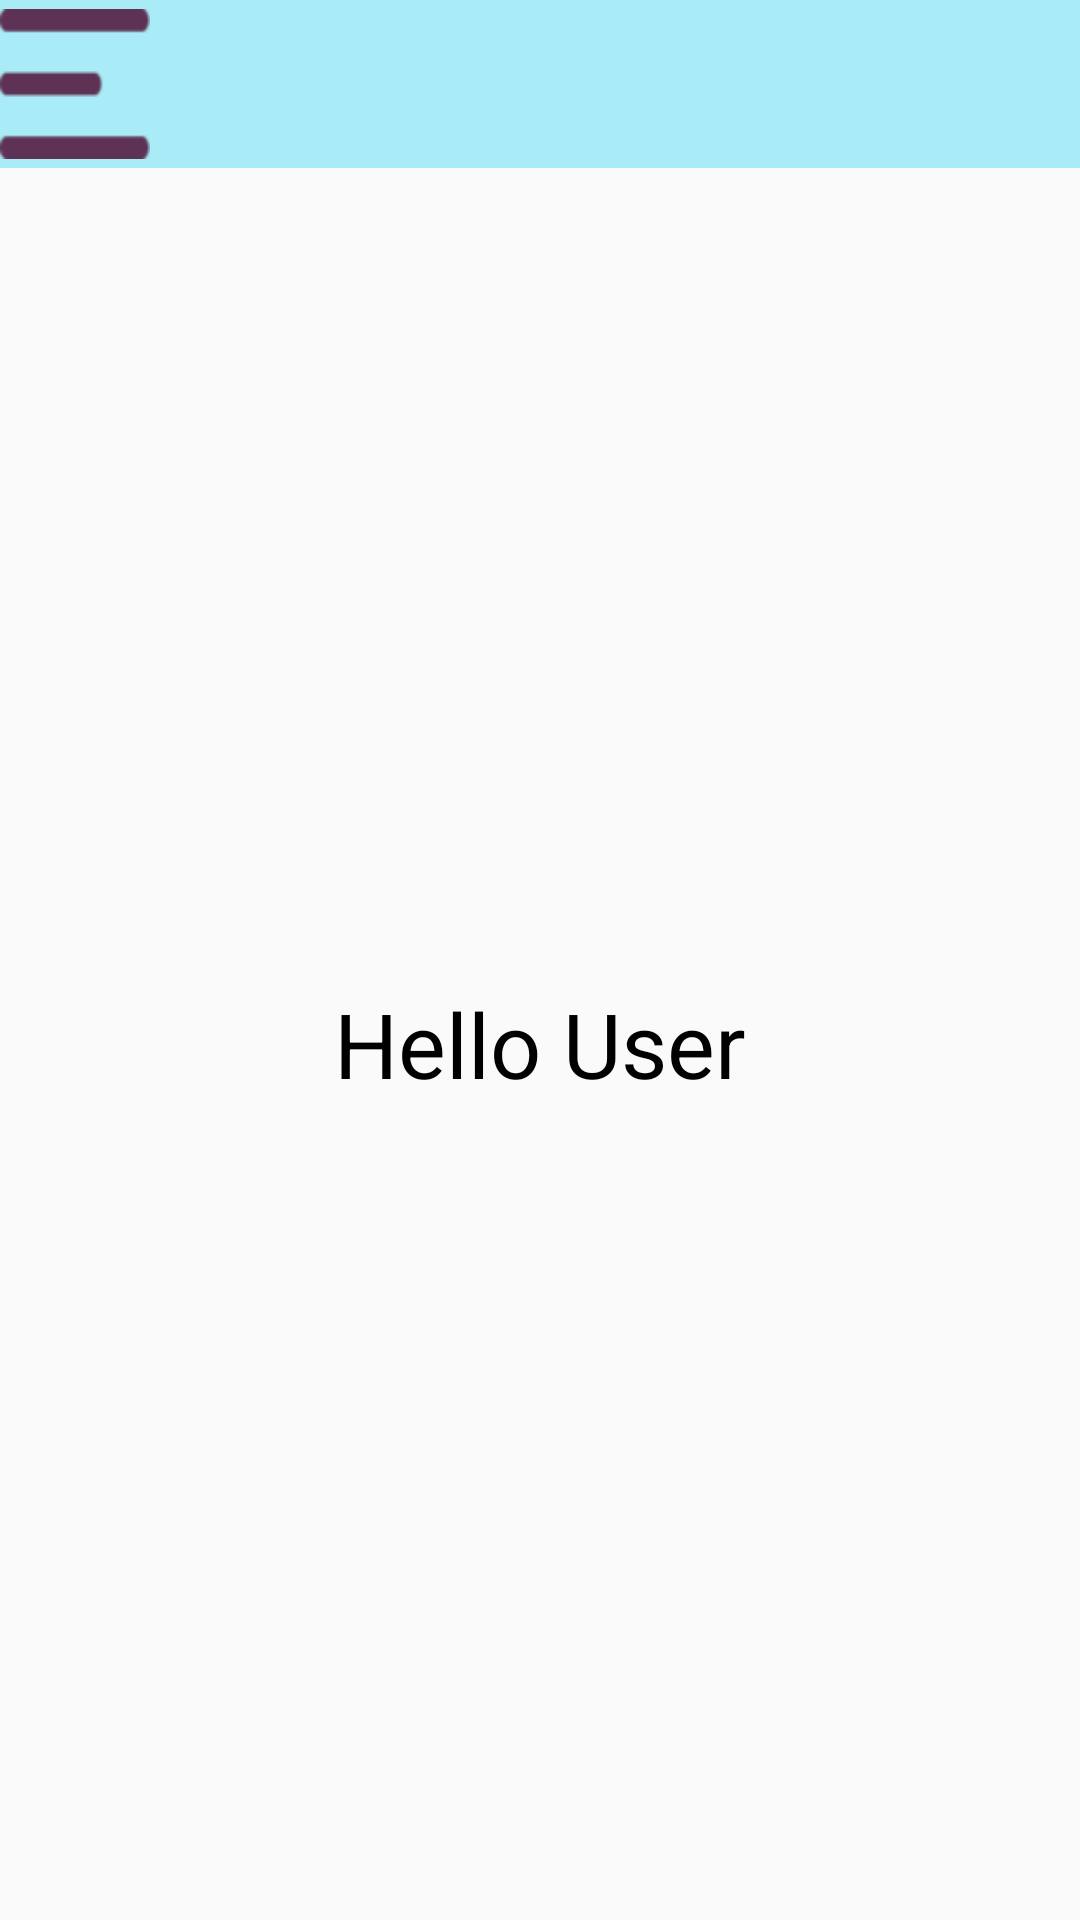

Named icons in this screenshot (1080 × 1920) and their bounding boxes, (x1, y1, x2, y2):
nav: (0, 9, 150, 159)
